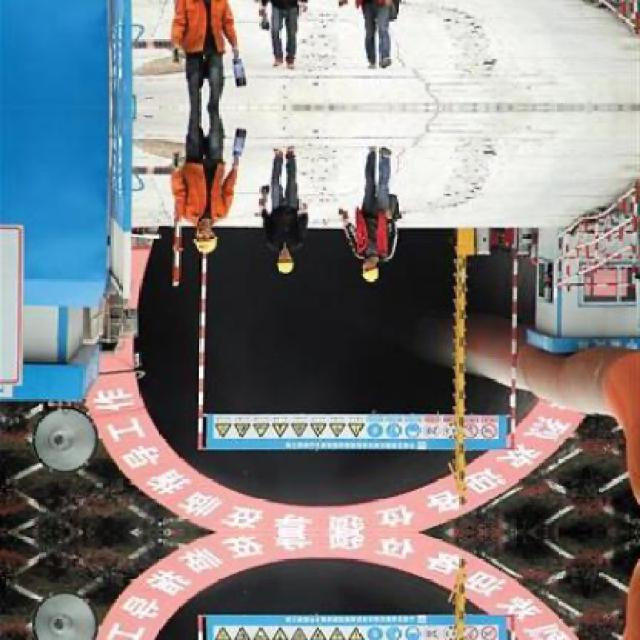con casco: (146, 197, 214, 254), (328, 229, 390, 289), (264, 238, 306, 276)
